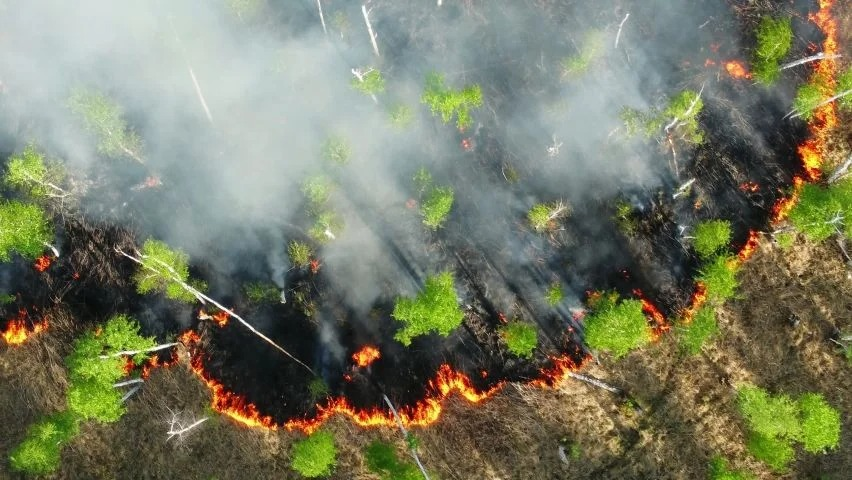forest_fire: (772, 100, 836, 223), (394, 365, 507, 427), (283, 398, 390, 433), (808, 0, 837, 86), (0, 309, 48, 344), (216, 403, 276, 429), (530, 356, 578, 385), (140, 352, 178, 379), (641, 300, 667, 339), (737, 231, 761, 263), (685, 282, 706, 312), (350, 345, 380, 365), (211, 382, 239, 403), (724, 60, 751, 77), (33, 254, 52, 271), (208, 311, 229, 326)
